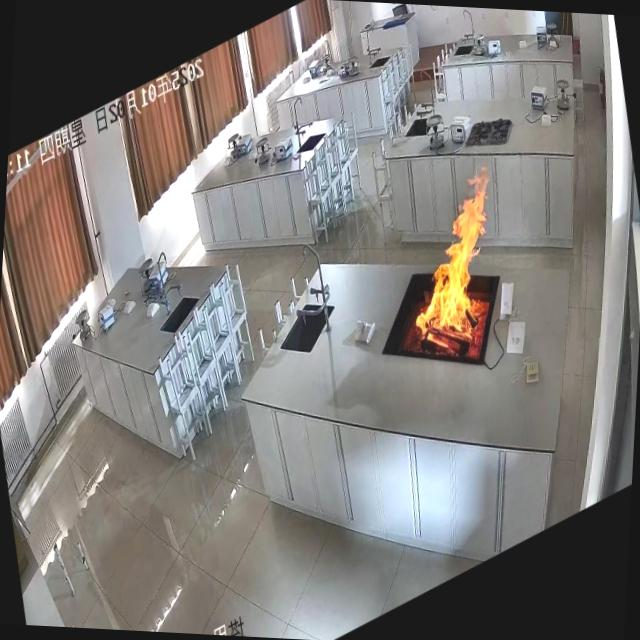fire: (380, 141, 530, 400)
